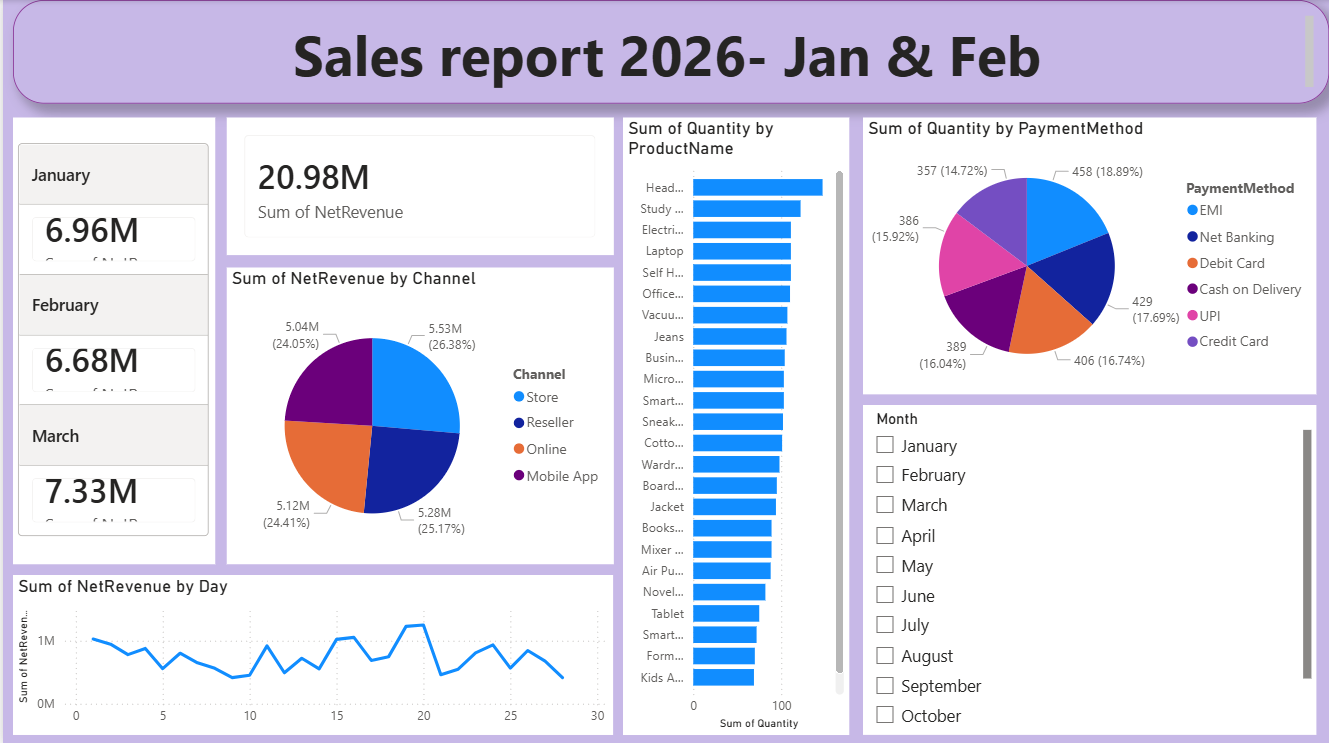

The dashboard page shown, as its layout file describes it:
{"tool":"powerbi","page":{"name":"Page 1","canvas":[1280,720],"ordinal":0},"visuals":[{"type":"textbox","box":[9.6,0,1270.7,100.2],"z":0},{"type":"cardVisual","fields":{"Data":["Sum(Sales_Jan.NetRevenue)"]},"box":[215.4,113.9,373.2,133.1],"z":1000},{"type":"cardVisual","fields":{"Rows":["Sales_Jan.OrderDate.Variation.Date Hierarchy.Month"],"Data":["Sum(Sales_Jan.NetRevenue)"]},"box":[9.6,113.9,194.9,430.9],"z":2000},{"type":"pieChart","fields":{"Y":["Sum(Sales_Jan.NetRevenue)"],"Category":["Sales_Jan.Channel"]},"box":[215.4,258,373.2,286.8],"z":3000},{"type":"lineChart","fields":{"Y":["Sum(Sales_Jan.NetRevenue)"],"Category":["Sales_Jan.OrderDate.Variation.Date Hierarchy.Day"]},"box":[9.6,554.4,579.1,166],"z":4000},{"type":"barChart","fields":{"Category":["Sales_Jan.ProductName"],"Y":["Sum(Sales_Jan.Quantity)"]},"box":[598.4,113.4,218.4,596],"z":5000},{"type":"pieChart","fields":{"Category":["Sales_Jan.PaymentMethod"],"Y":["Sum(Sales_Jan.Quantity)"]},"box":[830.2,113.9,437.7,267.6],"z":6000},{"type":"slicer","fields":{"Values":["Sales_Jan.OrderDate.Variation.Date Hierarchy.Month"]},"box":[830.2,391.1,437.7,318.4],"z":7000}]}

Visuals, with their boxes in screenshot pixels (x1, y1, x2, y2), scaled from the page's 1280x720 canvas onto the 1329x743 screenshot:
textbox: (10,0,1328,103)
cardVisual - Sum(Sales_Jan.NetRevenue): (224,118,611,255)
cardVisual - Sales_Jan.OrderDate.Variation.Date Hierarchy.Month x Sum(Sales_Jan.NetRevenue): (10,118,212,562)
pieChart - Sum(Sales_Jan.NetRevenue) x Sales_Jan.Channel: (224,266,611,562)
lineChart - Sum(Sales_Jan.NetRevenue) x Sales_Jan.OrderDate.Variation.Date Hierarchy.Day: (10,572,611,742)
barChart - Sales_Jan.ProductName x Sum(Sales_Jan.Quantity): (621,117,848,732)
pieChart - Sales_Jan.PaymentMethod x Sum(Sales_Jan.Quantity): (862,118,1316,394)
slicer - Sales_Jan.OrderDate.Variation.Date Hierarchy.Month: (862,404,1316,732)
